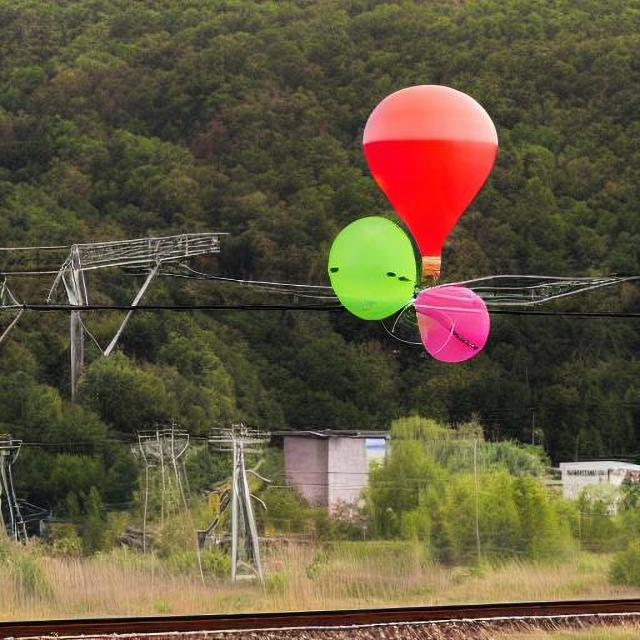balloon: (350, 81, 498, 299), (309, 210, 434, 349), (408, 280, 491, 362)
